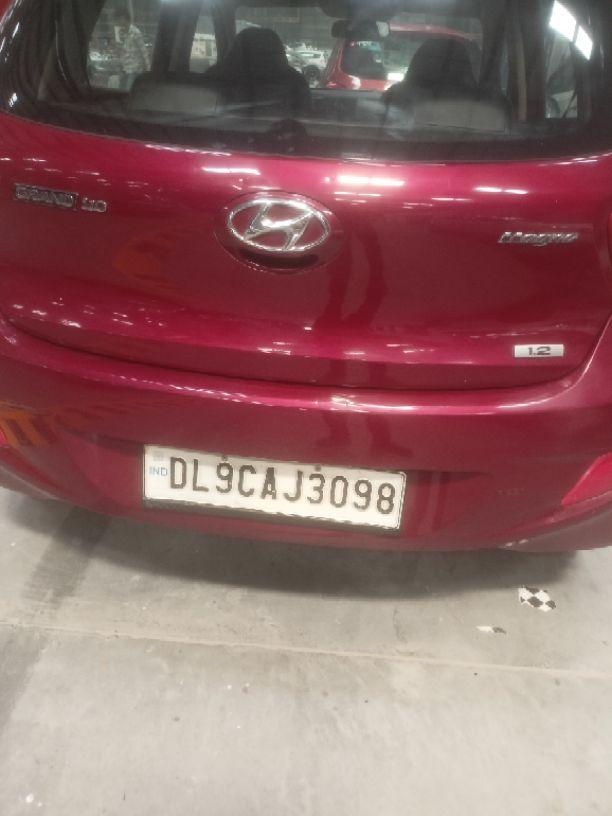license_plate: (140, 443, 407, 535)
